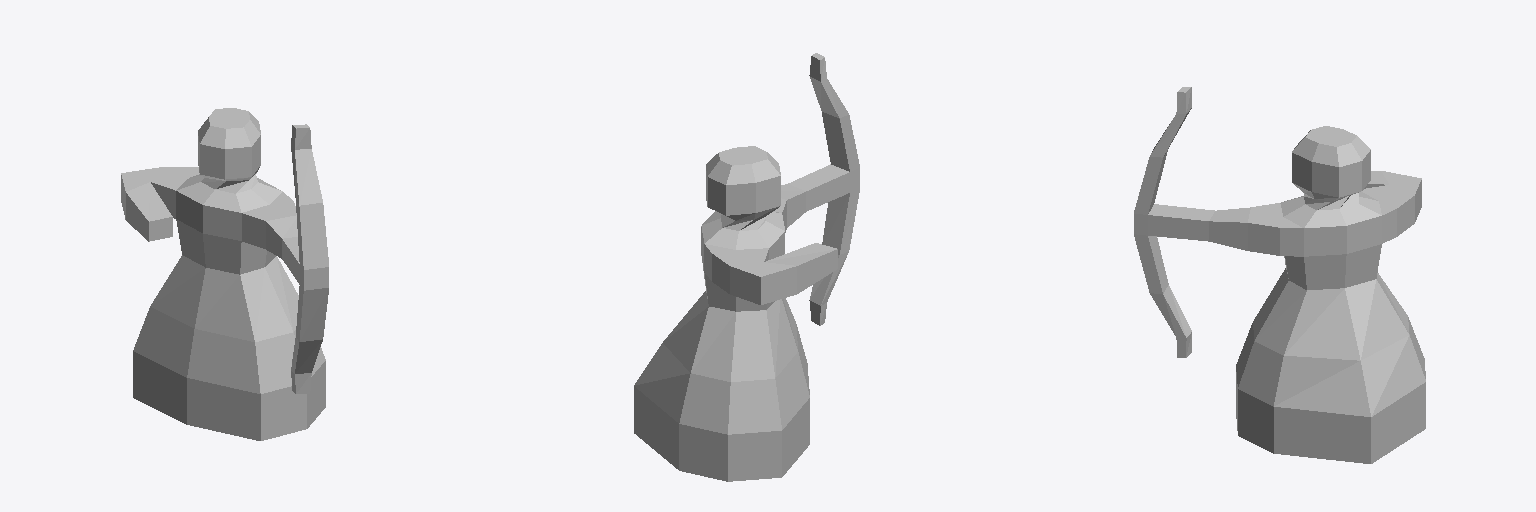
Rendered from AmberWoodArcher.obj.
The picture shows the model from 3 angles: view 1: azimuth 30°, elevation 25°; view 2: azimuth 150°, elevation 25°; view 3: azimuth 270°, elevation 25°; orthographic projection.
Parts seen in each view (by area): view 1: pCube3; view 2: pCube3; view 3: pCube3.
Boxes of the visible parts, x1,y1,x2,y2 form: pCube3: [121, 108, 328, 440]; pCube3: [634, 53, 859, 481]; pCube3: [1134, 87, 1425, 463].
Bounding box in the file's own units: 6.17 × 10.98 × 8.82.